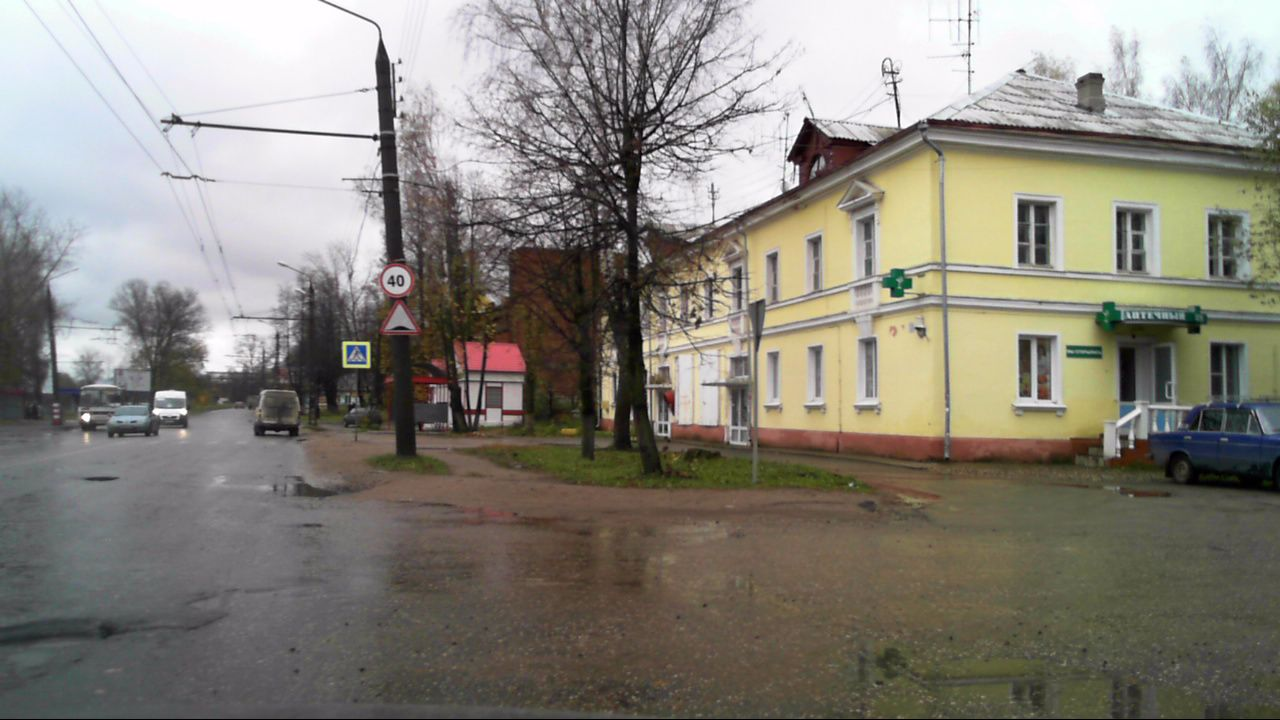speed_warning_40: (378, 262, 416, 299)
